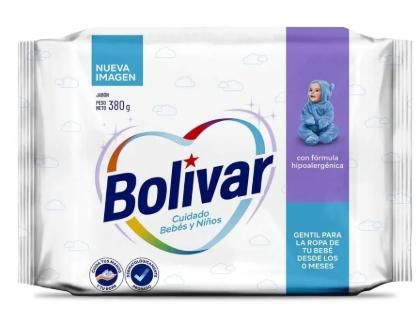brand: (97, 147, 277, 229)
net_weight: (108, 98, 131, 114)
product_name: (155, 205, 227, 234)
